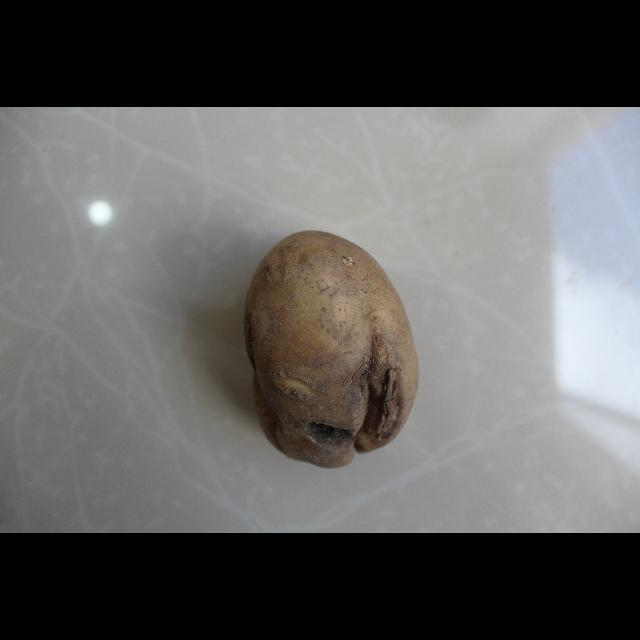Diseased-fungal potato: (241, 228, 421, 472)
